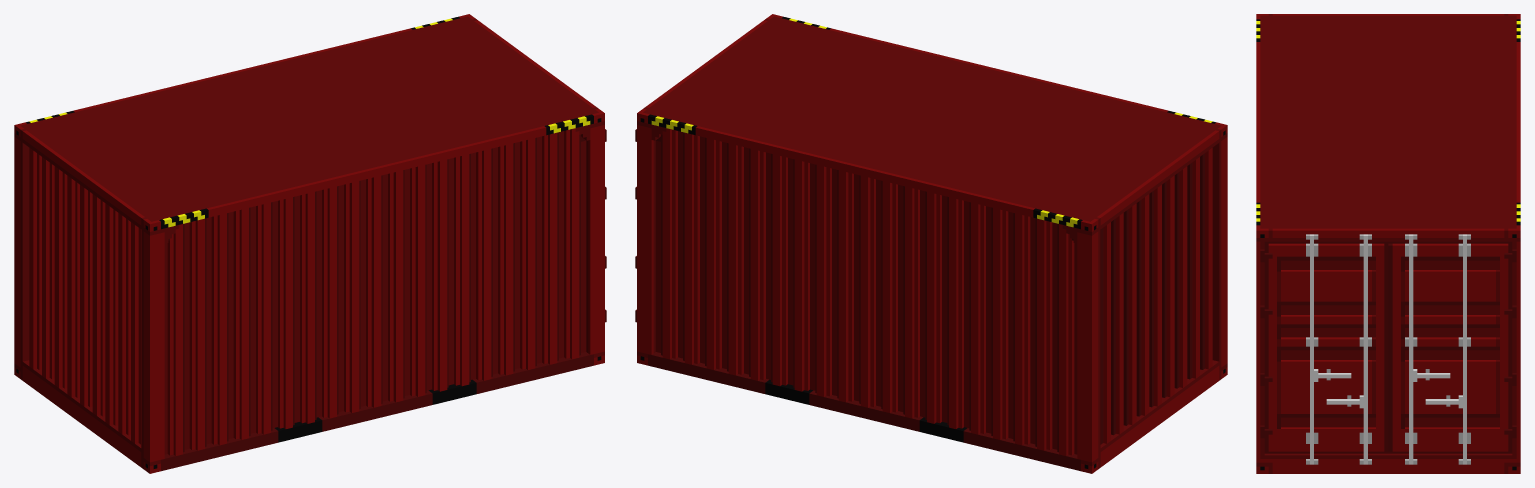
Rendered from ShippingCrateRed.obj.
The picture shows the model from 3 angles, left to right: view 1: azimuth 30°, elevation 25°; view 2: azimuth 150°, elevation 25°; view 3: azimuth 270°, elevation 25°; orthographic projection. The views are drawn at different scales.
Size of the model in its own units: 12.5 by 6.5 by 6.4.
Materials: 1 (1 with a texture image).
